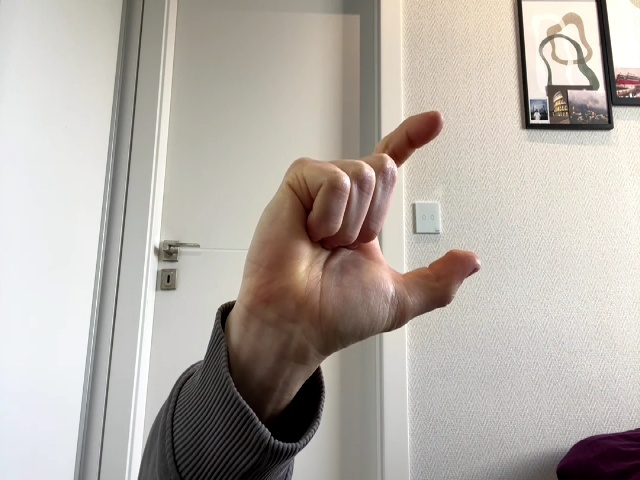C: (239, 112, 481, 351)
